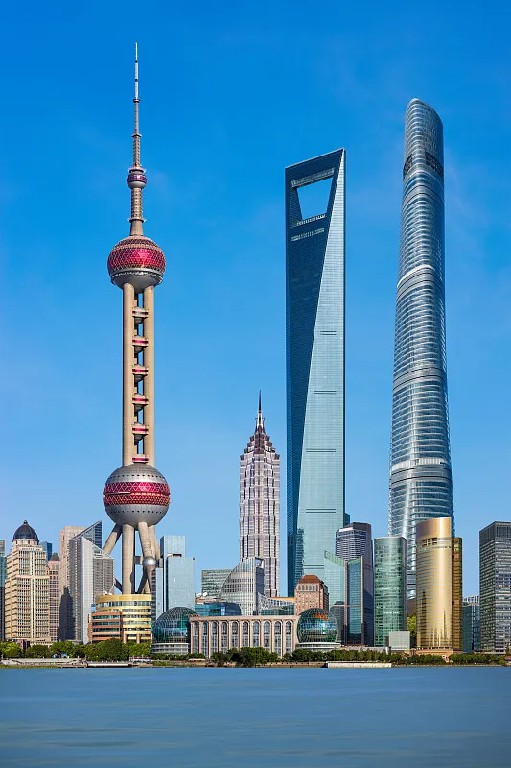Oriental: (102, 44, 171, 592)
